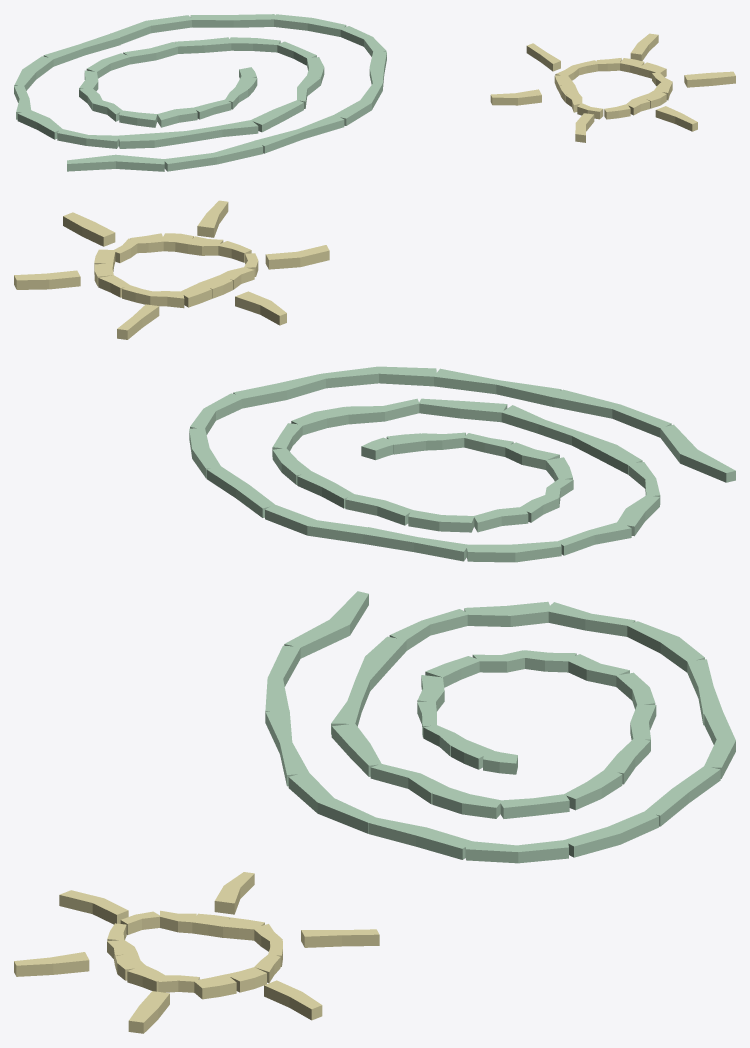
Rendered from env_chalk_gulo.obj.
3 views of the same model, one above another, from view 1: azimuth 30°, elevation 25°; view 2: azimuth 150°, elevation 25°; view 3: azimuth 270°, elevation 25° (orthographic). The views are drawn at different scales.
Parts seen in each view (by area): view 1: ChalkGulo; view 2: ChalkGulo; view 3: ChalkGulo.
Part boxes in pixels (x1,y1,x2,y2): ChalkGulo: (14, 14, 735, 171); ChalkGulo: (14, 200, 735, 562); ChalkGulo: (14, 591, 735, 1033).
Size of the model in its own units: 1.65 by 0.02 by 1.17.
